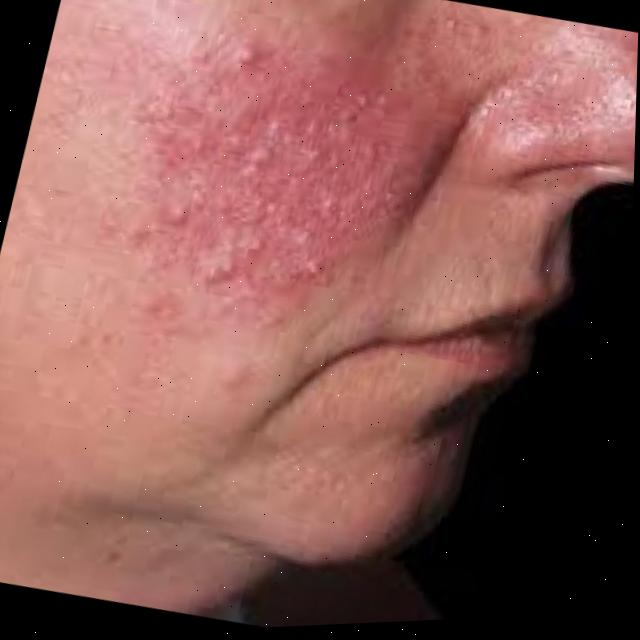Rosacea: (97, 25, 409, 326)
